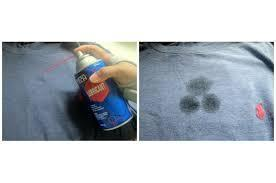mustard: (172, 76, 222, 117)
